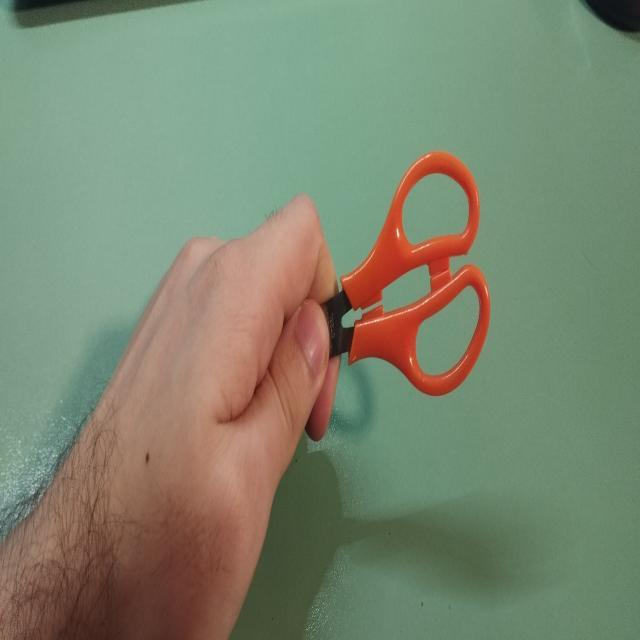tesoura: (192, 142, 493, 404)
